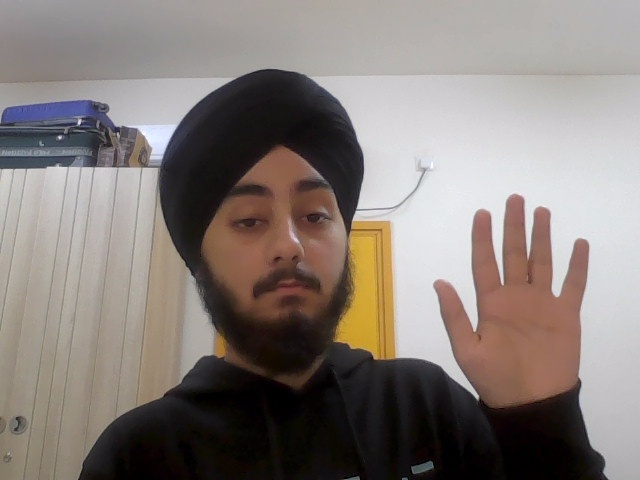Hello: (433, 189, 601, 405)
